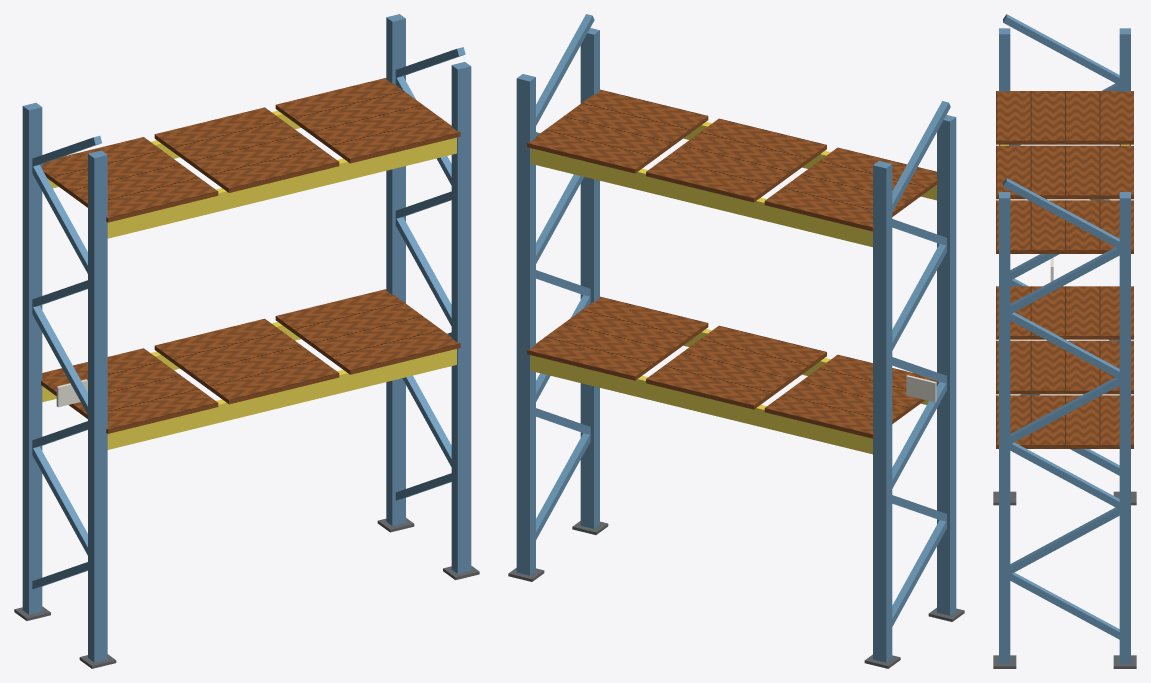
The model's file is FactoryRack.glb.
The picture shows the model from 3 angles, left to right: view 1: azimuth 30°, elevation 25°; view 2: azimuth 150°, elevation 25°; view 3: azimuth 270°, elevation 25°; orthographic projection. The views are drawn at different scales.
Visible parts, largest first — view 1: machine-shop-and-factory-hall-pallet-racking-bay; view 2: machine-shop-and-factory-hall-pallet-racking-bay; view 3: machine-shop-and-factory-hall-pallet-racking-bay.
Part boxes in pixels (x1=…): machine-shop-and-factory-hall-pallet-racking-bay: x1=14, y1=14, x2=479, y2=668; machine-shop-and-factory-hall-pallet-racking-bay: x1=508, y1=14, x2=964, y2=668; machine-shop-and-factory-hall-pallet-racking-bay: x1=993, y1=14, x2=1136, y2=668.
Size of the model in its own units: 1.95 by 2.5 by 0.6717.
Materials: 5 (1 with a texture image).
